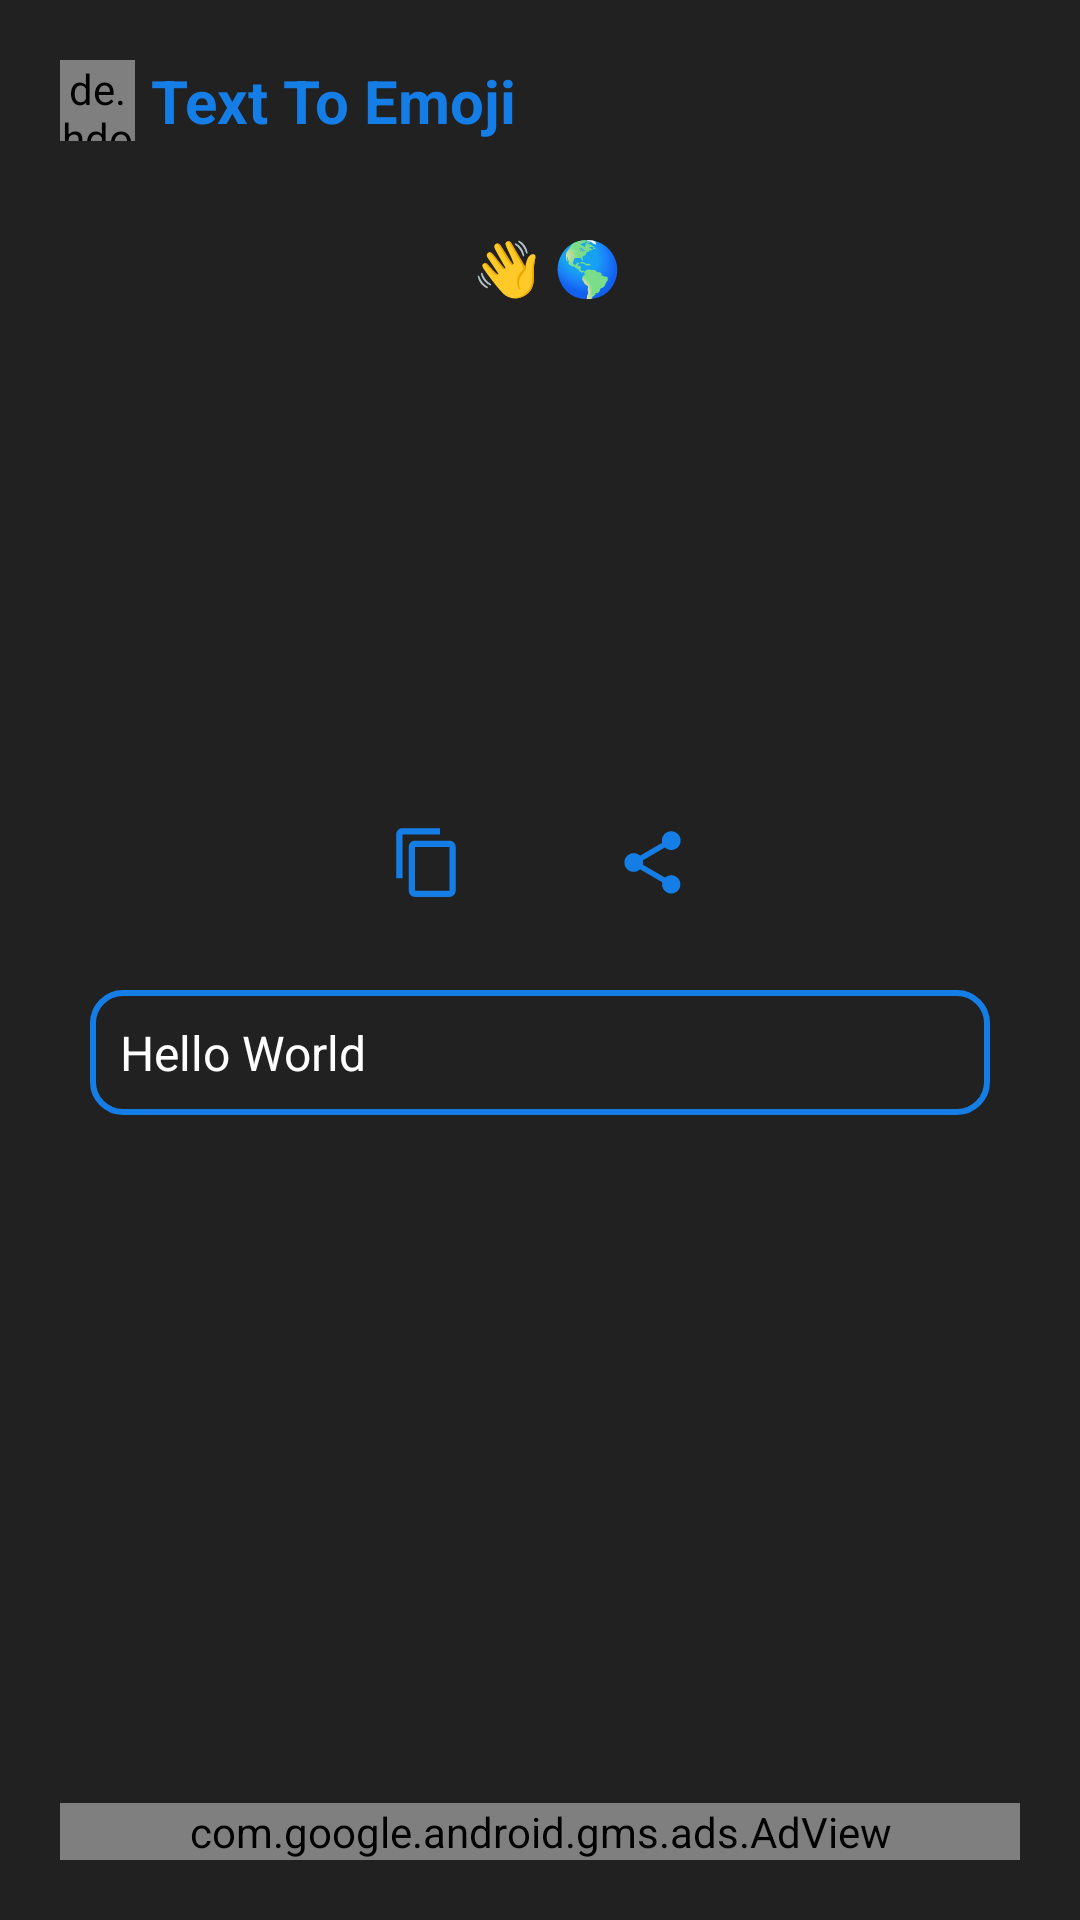

Named icons in this screenshot (1080*1920) and their bounding boxes, (x1, y1, x2, y2):
share: (624, 831, 681, 894)
